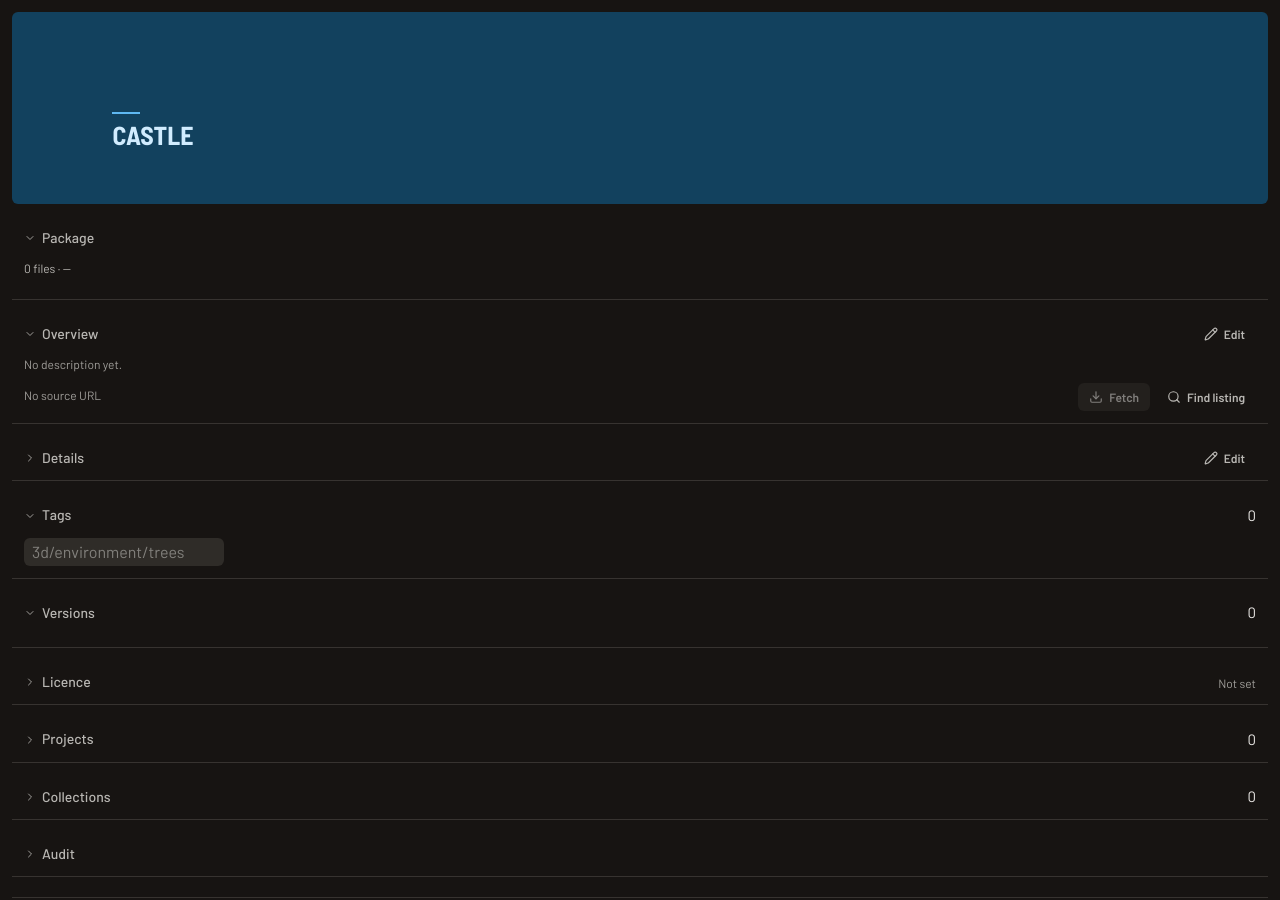
Test: Package page's activity › shows the error with a Retry that loads the list once it succeeds
The width and height of the screenshot is (1280, 900).
What coordinates should you click on to do the following:
click the button "Audit"
I would click on:
 (58, 853)
Its box is [12,832,1268,876].
(page scrolled)
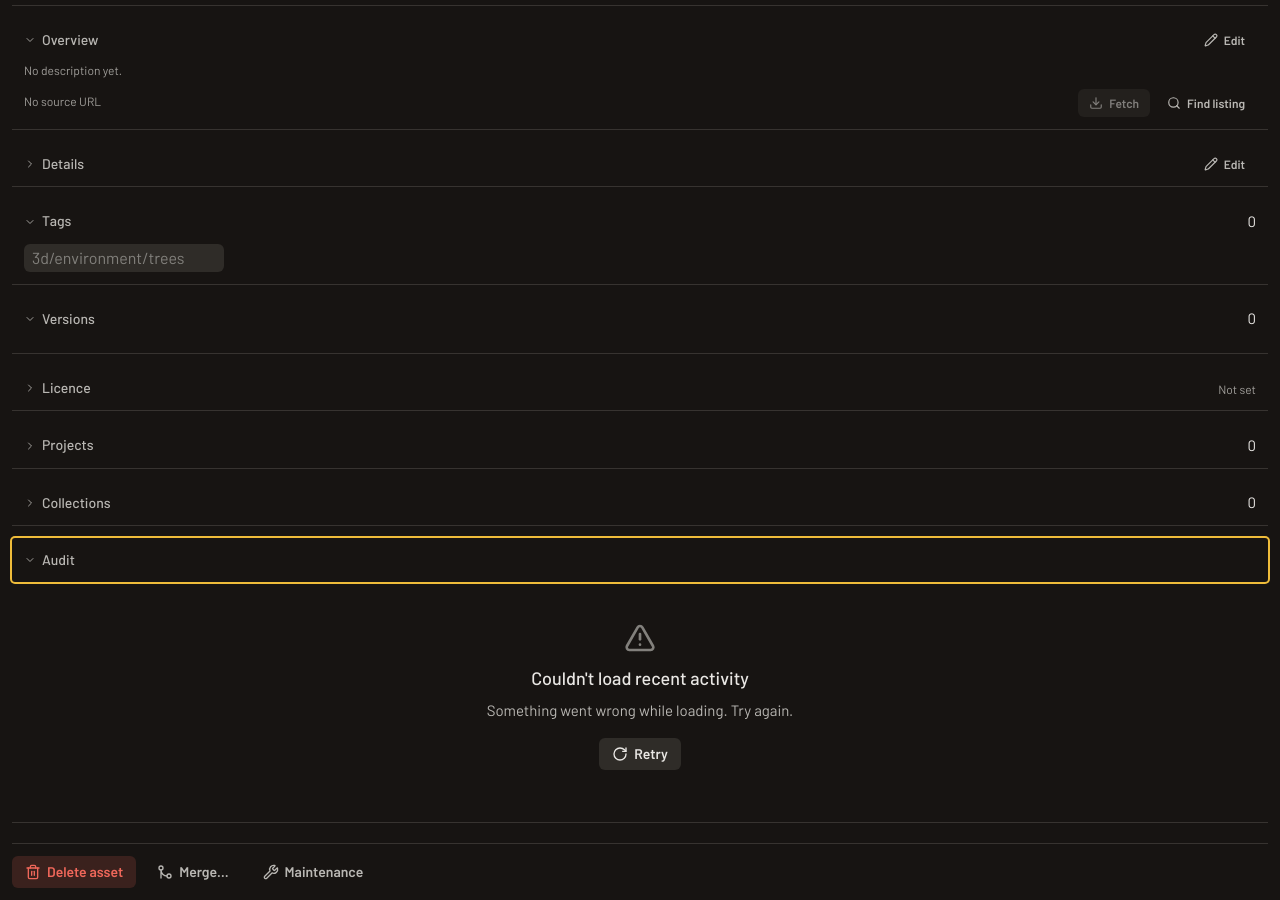
expect the text "No activity yet" is not shown: met
expect the text "Couldn't load recent activity" is shown: met, box [531,666,749,691]
What coordinates should you click on to do the following:
click the button "Retry"
I would click on:
 (640, 754)
Its box is [599,738,681,770].
(page scrolled)
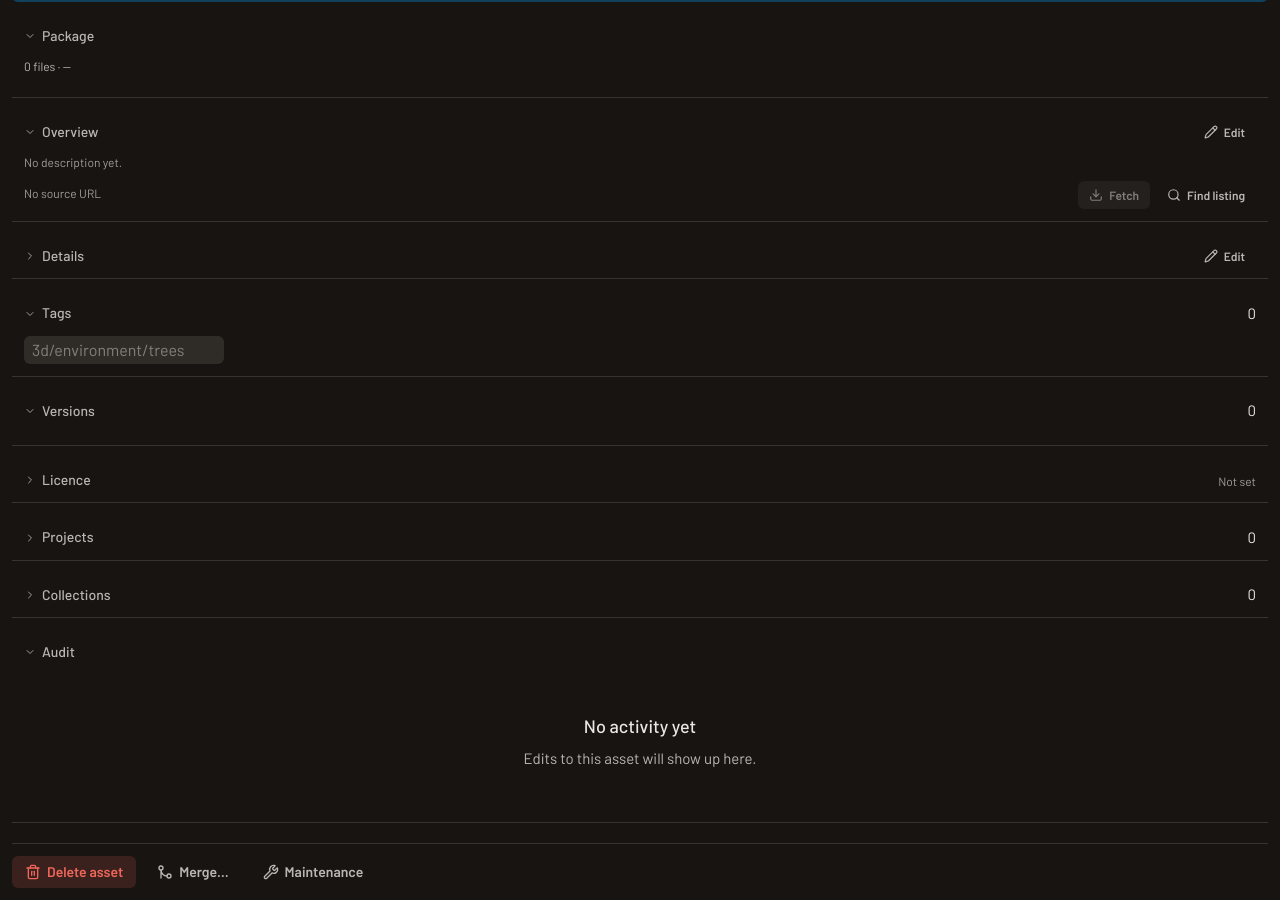
expect the text "No activity yet" is shown: met, box [584,714,696,739]
expect the text "Couldn't load recent activity" is gone: met
